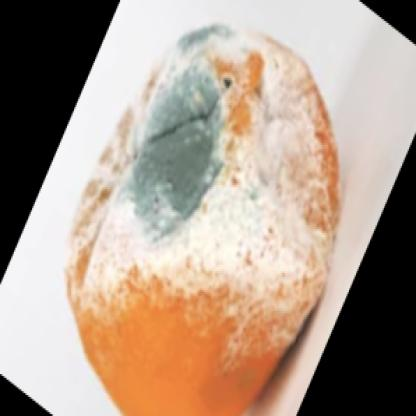rotten: (66, 24, 341, 416)
